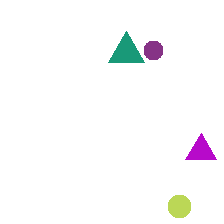circle: (168, 195, 190, 217), (144, 41, 162, 59)
triangle: (108, 31, 144, 62), (185, 133, 216, 159)
